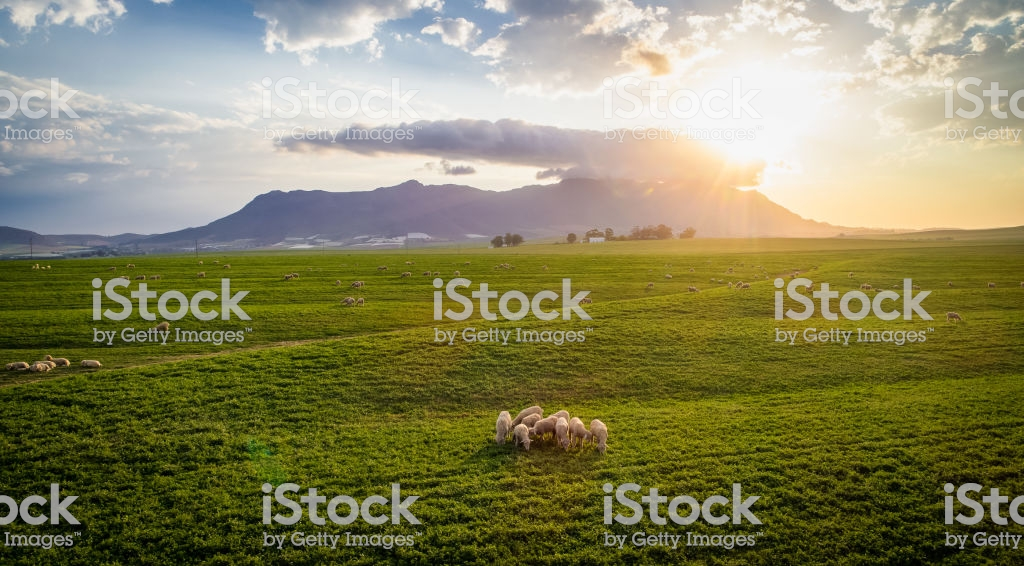sheep: (528, 416, 558, 447), (569, 415, 592, 450), (511, 422, 534, 453), (590, 419, 609, 456), (494, 409, 512, 446), (555, 417, 572, 453)
